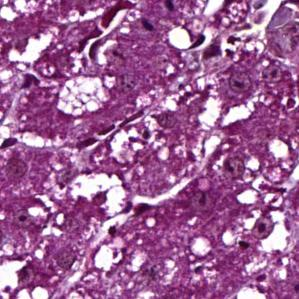ballooning: (55, 73, 112, 118)
